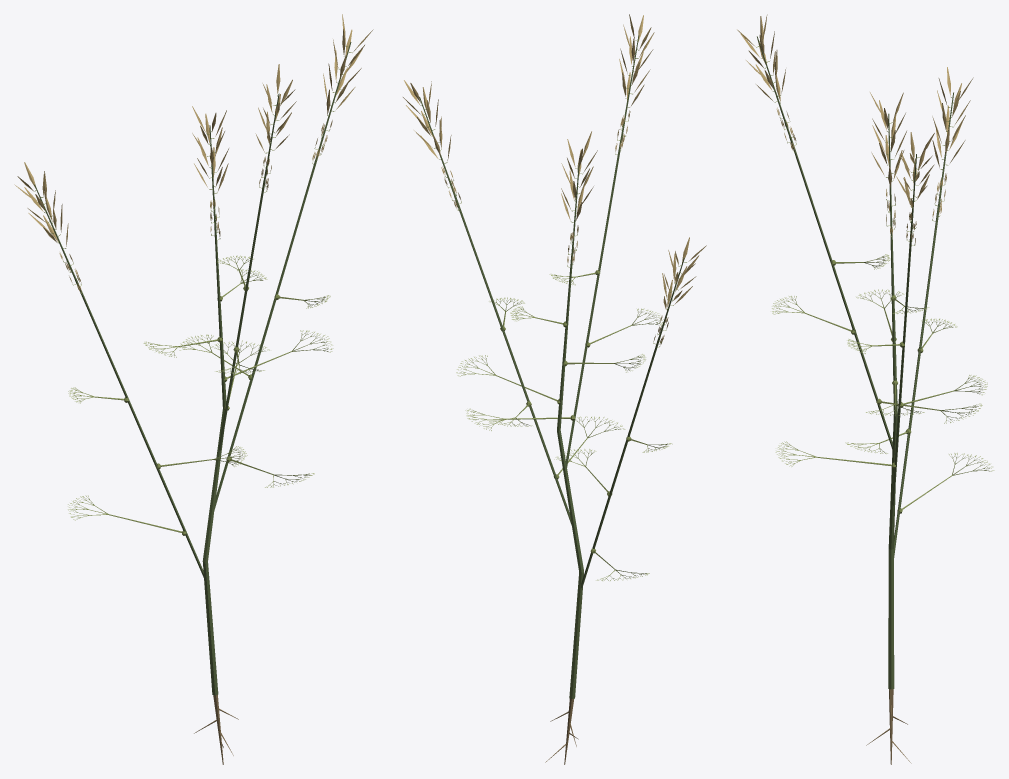
File: archaefructus.glb
3 renders of one model, left to right at view 1: azimuth 30°, elevation 25°; view 2: azimuth 150°, elevation 25°; view 3: azimuth 270°, elevation 25°, orthographic. The views are drawn at different scales.
Parts seen in each view (by area): view 1: archaefructus-sinensis-four-open-fertile-shoots; view 2: archaefructus-sinensis-four-open-fertile-shoots; view 3: archaefructus-sinensis-four-open-fertile-shoots.
Boxes of the visible parts, <box> form: archaefructus-sinensis-four-open-fertile-shoots: <box>14,14,373,764</box>; archaefructus-sinensis-four-open-fertile-shoots: <box>403,14,706,764</box>; archaefructus-sinensis-four-open-fertile-shoots: <box>737,14,994,764</box>.
Bounding box in the file's own units: 0.1701 × 0.3598 × 0.1132.
